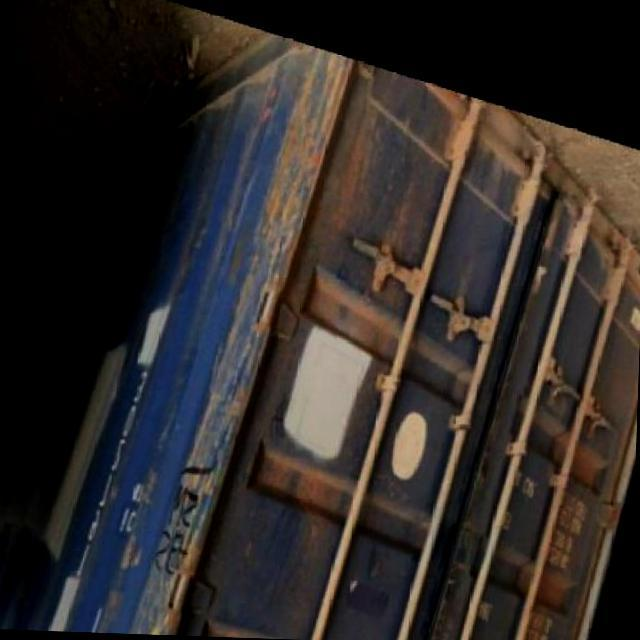rust: (253, 50, 334, 245), (292, 271, 403, 369), (240, 446, 352, 533), (157, 462, 213, 606), (178, 204, 210, 302)
